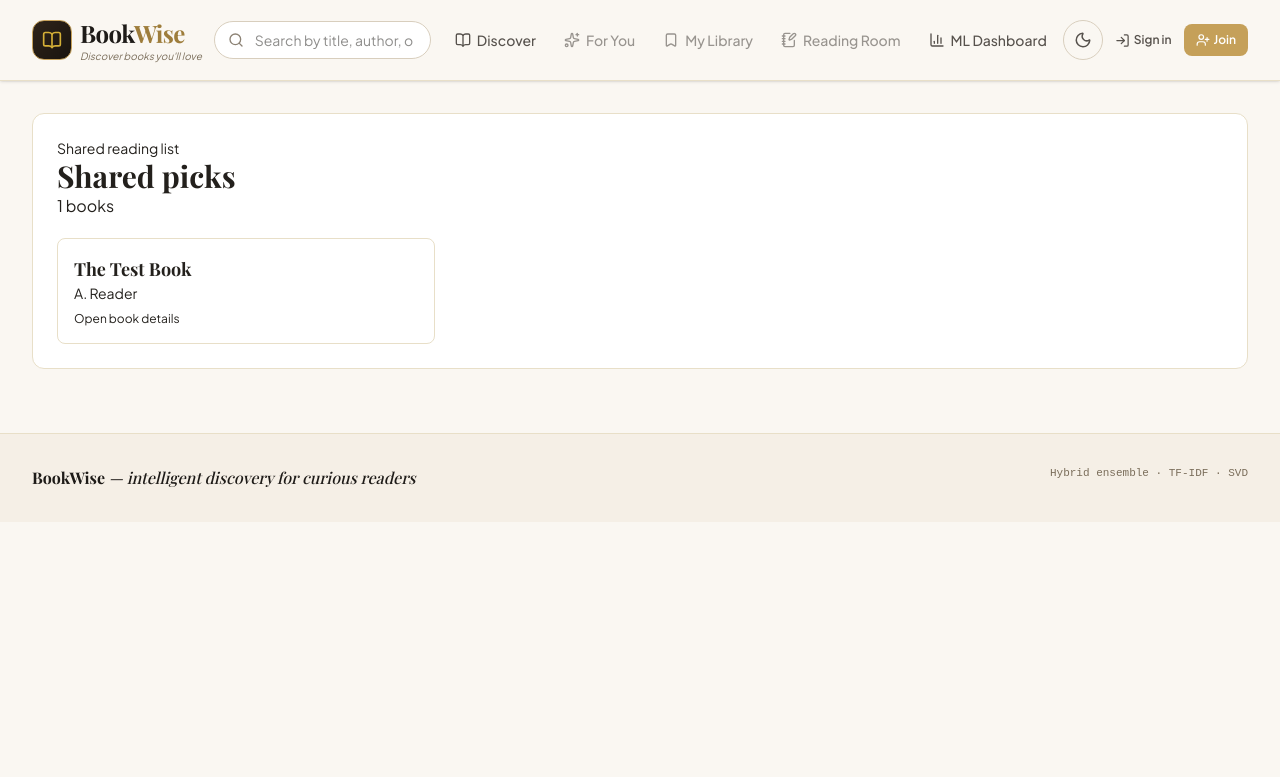
Test: phase four app integration › opens a public list for a guest and preserves the list URL when a book opens
Expected: the heading "Shared picks" is shown, left=57, top=156, right=236, bottom=196
What coordinates should you click on to do the following:
click the button "The Test Book A. Reader Open book details"
I would click on:
 (133, 269)
Its box is left=57, top=238, right=435, bottom=344.
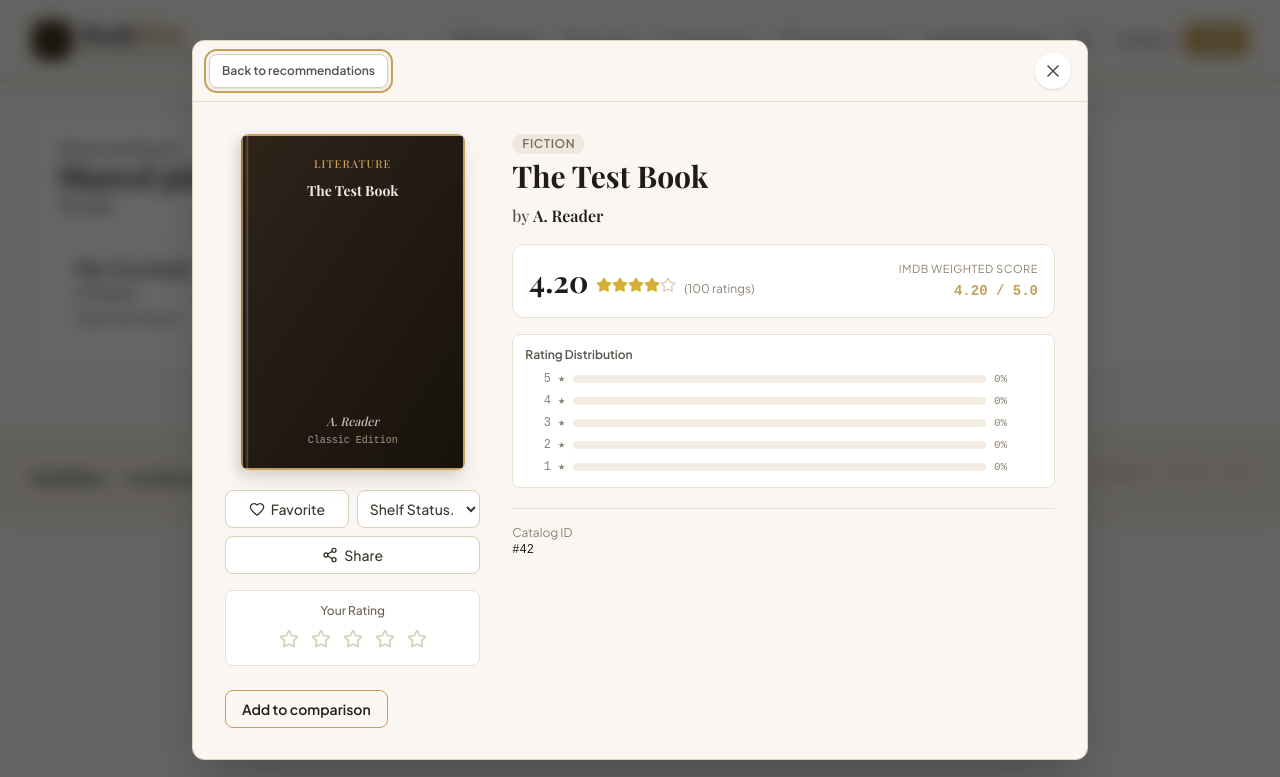
What coordinates should you click on to do the following:
click the button "Add to comparison"
I would click on:
 (306, 709)
Its box is left=225, top=690, right=388, bottom=728.
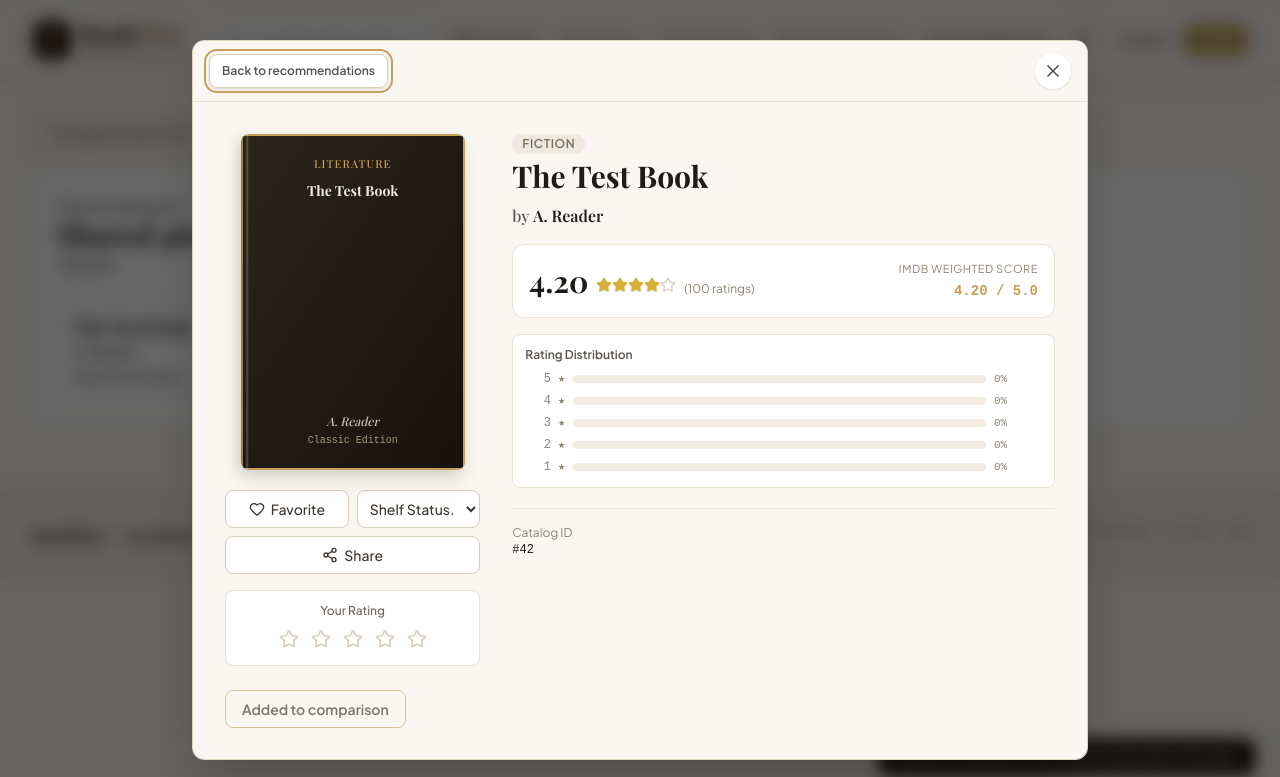
What coordinates should you click on to do the following:
click the button named "Close book details"
I would click on:
 (1053, 71)
Its box is left=1035, top=53, right=1071, bottom=89.
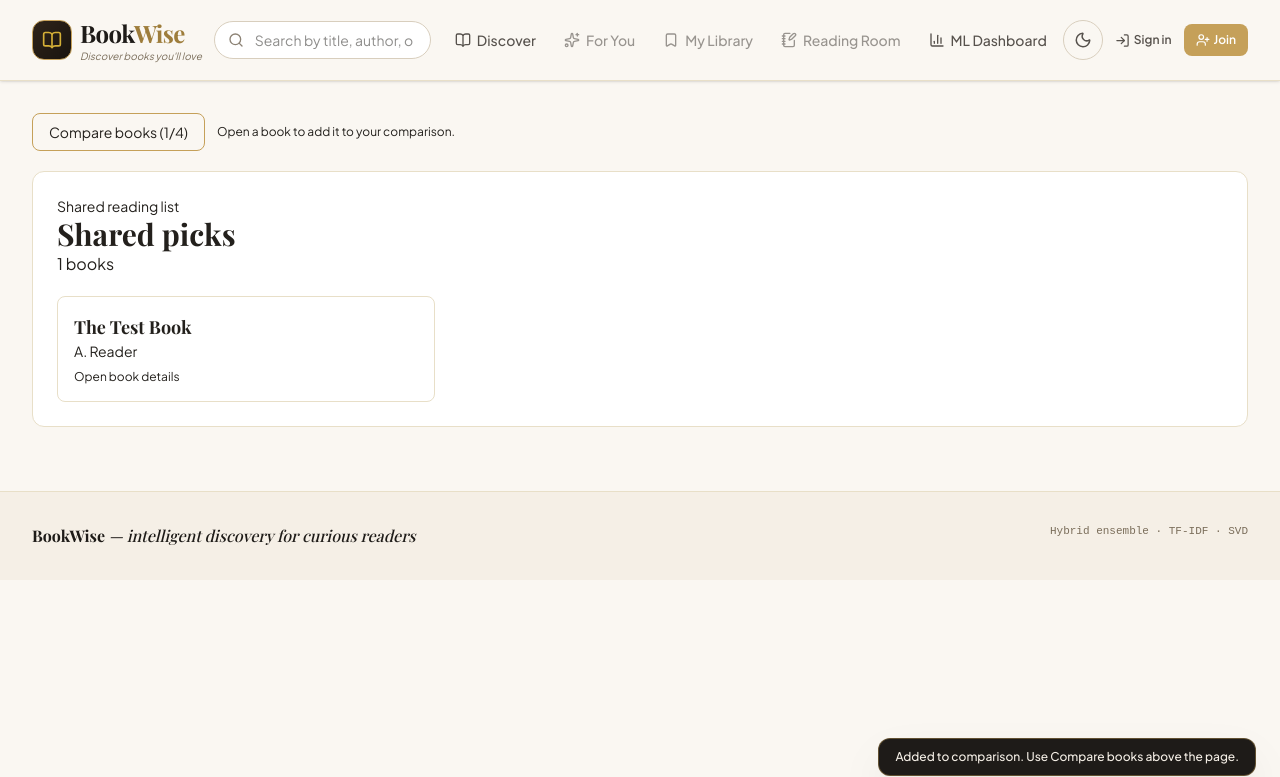
What coordinates should you click on to do the following:
click the button "Compare books (1/4)"
I would click on:
 (118, 132)
Its box is left=32, top=113, right=205, bottom=151.
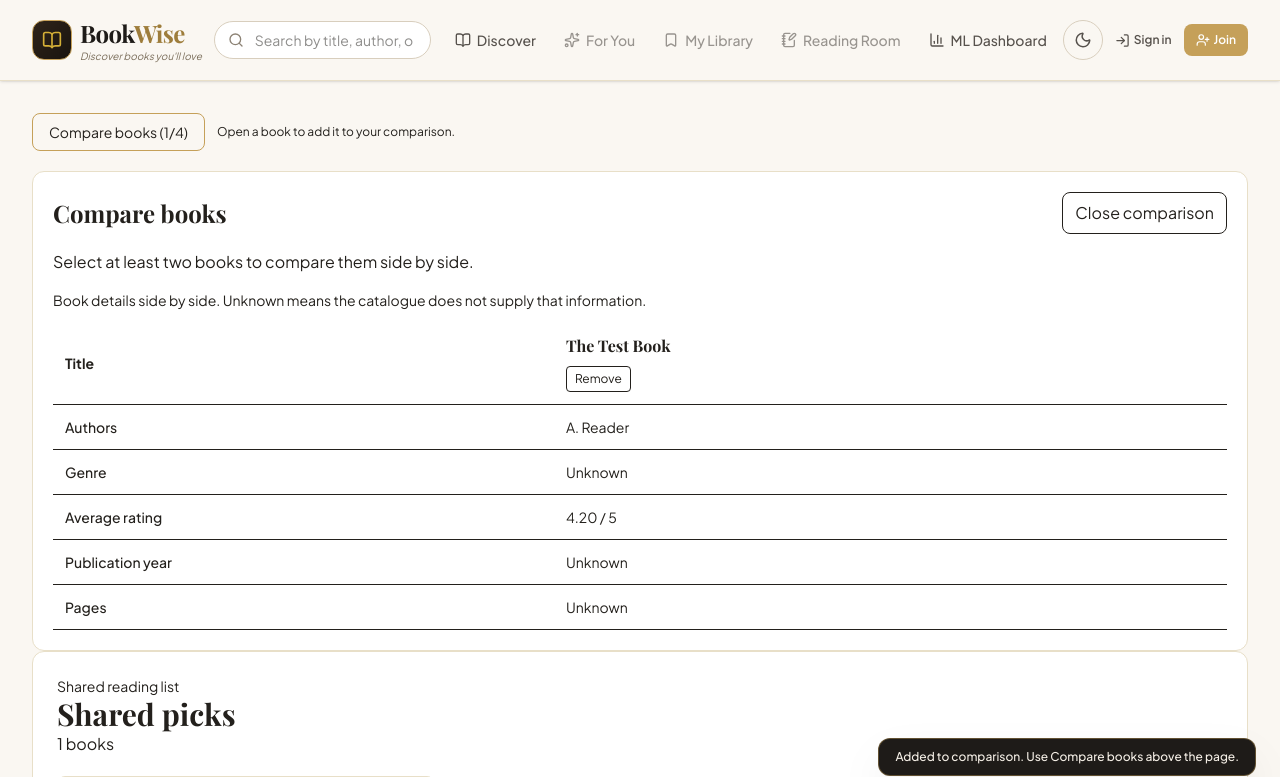
Expected: the element named "Book comparison" is shown, left=32, top=171, right=1248, bottom=651
